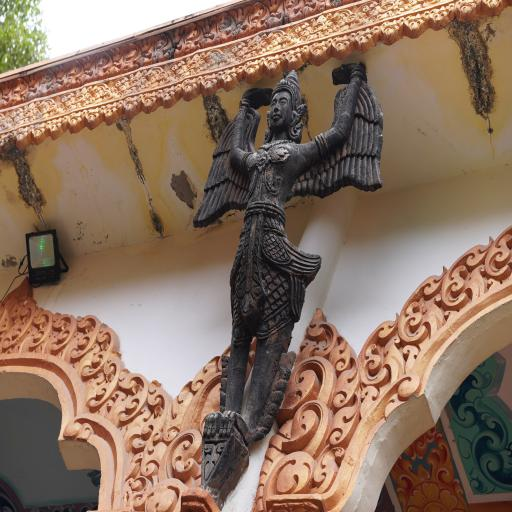hoa: (262, 21, 310, 56), (332, 2, 380, 33), (142, 60, 186, 90), (87, 76, 129, 106), (204, 41, 247, 65), (36, 90, 75, 116)
la: (249, 289, 364, 512), (350, 312, 406, 422), (395, 263, 451, 354), (442, 232, 496, 320), (126, 378, 171, 478), (0, 272, 36, 354), (106, 362, 151, 426), (81, 316, 123, 382), (157, 424, 204, 482), (84, 353, 126, 414), (64, 308, 100, 367), (162, 380, 194, 444), (146, 471, 191, 512), (23, 297, 52, 356), (48, 306, 77, 360), (122, 474, 153, 512), (190, 356, 220, 393), (210, 10, 238, 46), (378, 16, 408, 47), (177, 22, 204, 55), (88, 48, 113, 83), (428, 3, 457, 33), (147, 32, 174, 64), (354, 25, 382, 55), (404, 9, 431, 40), (60, 57, 84, 91), (246, 1, 270, 35), (284, 43, 312, 72), (120, 40, 143, 73), (308, 37, 332, 68), (331, 32, 356, 60), (34, 67, 57, 97), (8, 76, 30, 107), (244, 56, 266, 86), (455, 0, 482, 24), (221, 65, 244, 93), (102, 100, 125, 127), (264, 52, 287, 79), (66, 108, 86, 139), (181, 75, 203, 103), (200, 71, 222, 99), (160, 83, 182, 110), (122, 93, 143, 121), (140, 90, 162, 116), (84, 105, 105, 132), (49, 114, 69, 142), (281, 0, 305, 23), (480, 0, 512, 17), (0, 128, 18, 155), (31, 120, 49, 147), (16, 124, 32, 149)
than: (188, 61, 385, 497)
